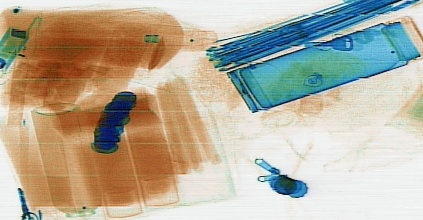pressure: (30, 98, 100, 219)
